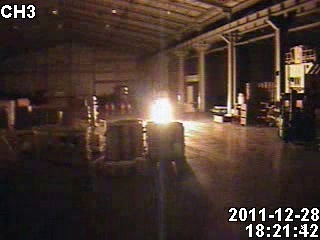fire: (150, 90, 175, 125)
